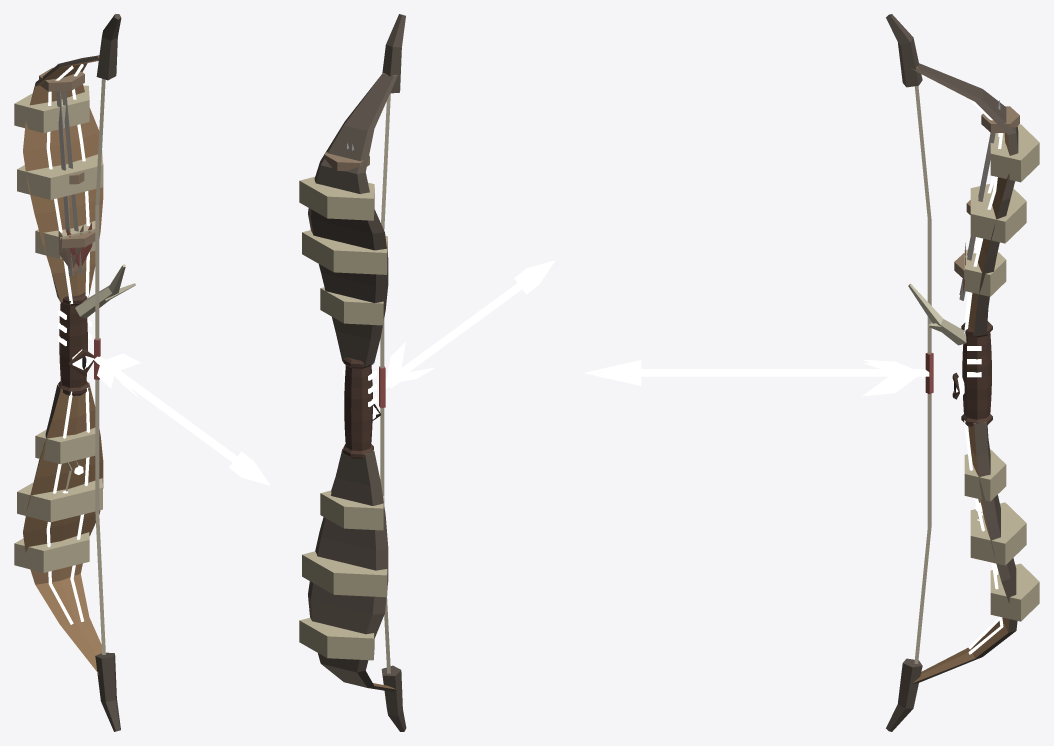
Rendered from bow-bowyers-pride.glb.
3 views of the same model, side by side, from view 1: azimuth 30°, elevation 25°; view 2: azimuth 150°, elevation 25°; view 3: azimuth 270°, elevation 25° (orthographic).
Parts seen in each view (by area): view 1: bow-bowyers-pride, string, pulse_arrow, pulse_vein, blink_eye; view 2: bow-bowyers-pride, pulse_arrow, string; view 3: bow-bowyers-pride, pulse_arrow, string, pulse_vein.
Boxes of the visible parts, <box> form: bow-bowyers-pride: <box>14,14,135,731</box>; string: <box>94,78,105,654</box>; pulse_arrow: <box>94,353,270,485</box>; pulse_vein: <box>46,64,89,624</box>; blink_eye: <box>68,349,93,375</box>; bow-bowyers-pride: <box>299,14,406,731</box>; pulse_arrow: <box>385,260,555,388</box>; string: <box>379,93,390,673</box>; bow-bowyers-pride: <box>886,14,1039,731</box>; pulse_arrow: <box>584,359,929,396</box>; string: <box>914,86,933,663</box>; pulse_vein: <box>964,98,1003,654</box>.
Bounding box in the file's own units: 0.2031 × 1.64 × 0.9428.
